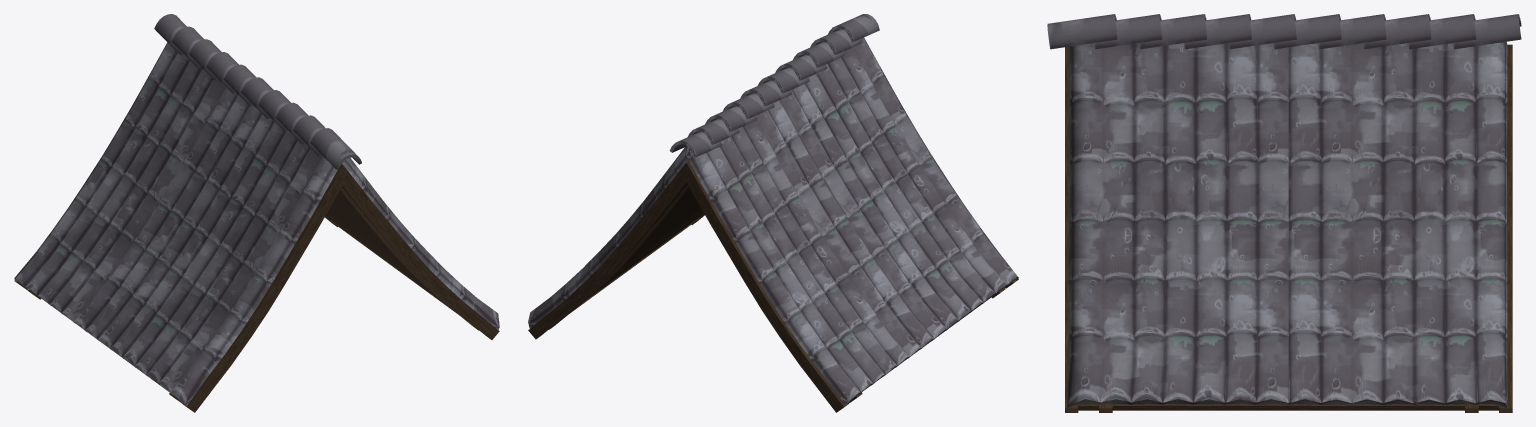
File: Roof_RoundTiles_6x6.gltf
3 renders of one model, left to right at view 1: azimuth 30°, elevation 25°; view 2: azimuth 150°, elevation 25°; view 3: azimuth 270°, elevation 25°, orthographic. The views are drawn at different scales.
Visible parts, largest first — view 1: Roof_RoundTiles_6x6; view 2: Roof_RoundTiles_6x6; view 3: Roof_RoundTiles_6x6.
Part boxes in pixels (x1,y1,x2,y2): Roof_RoundTiles_6x6: (14, 14, 499, 412); Roof_RoundTiles_6x6: (528, 14, 1018, 412); Roof_RoundTiles_6x6: (1047, 14, 1521, 412).
Bounding box in the file's own units: 8.25 × 5.67 × 8.03.
2 materials, 2 textured.
